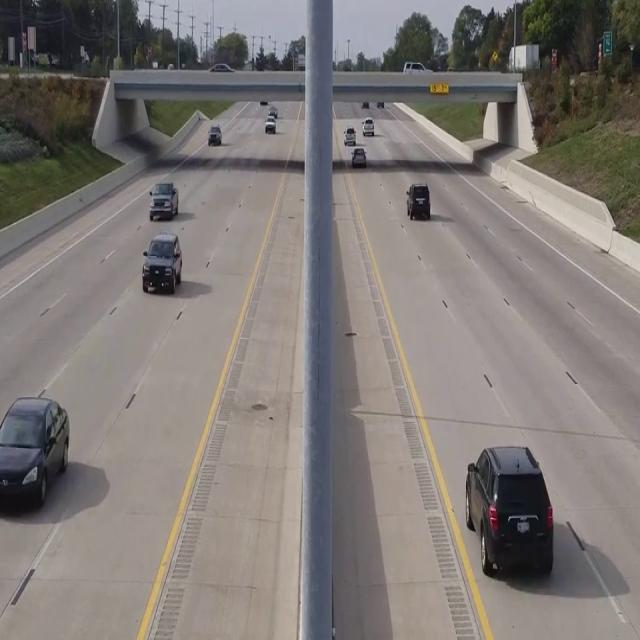car: (465, 444, 553, 576), (0, 394, 69, 509), (141, 232, 182, 294), (148, 182, 178, 220), (406, 183, 430, 219), (208, 123, 222, 146), (351, 147, 366, 168), (361, 117, 374, 135)
